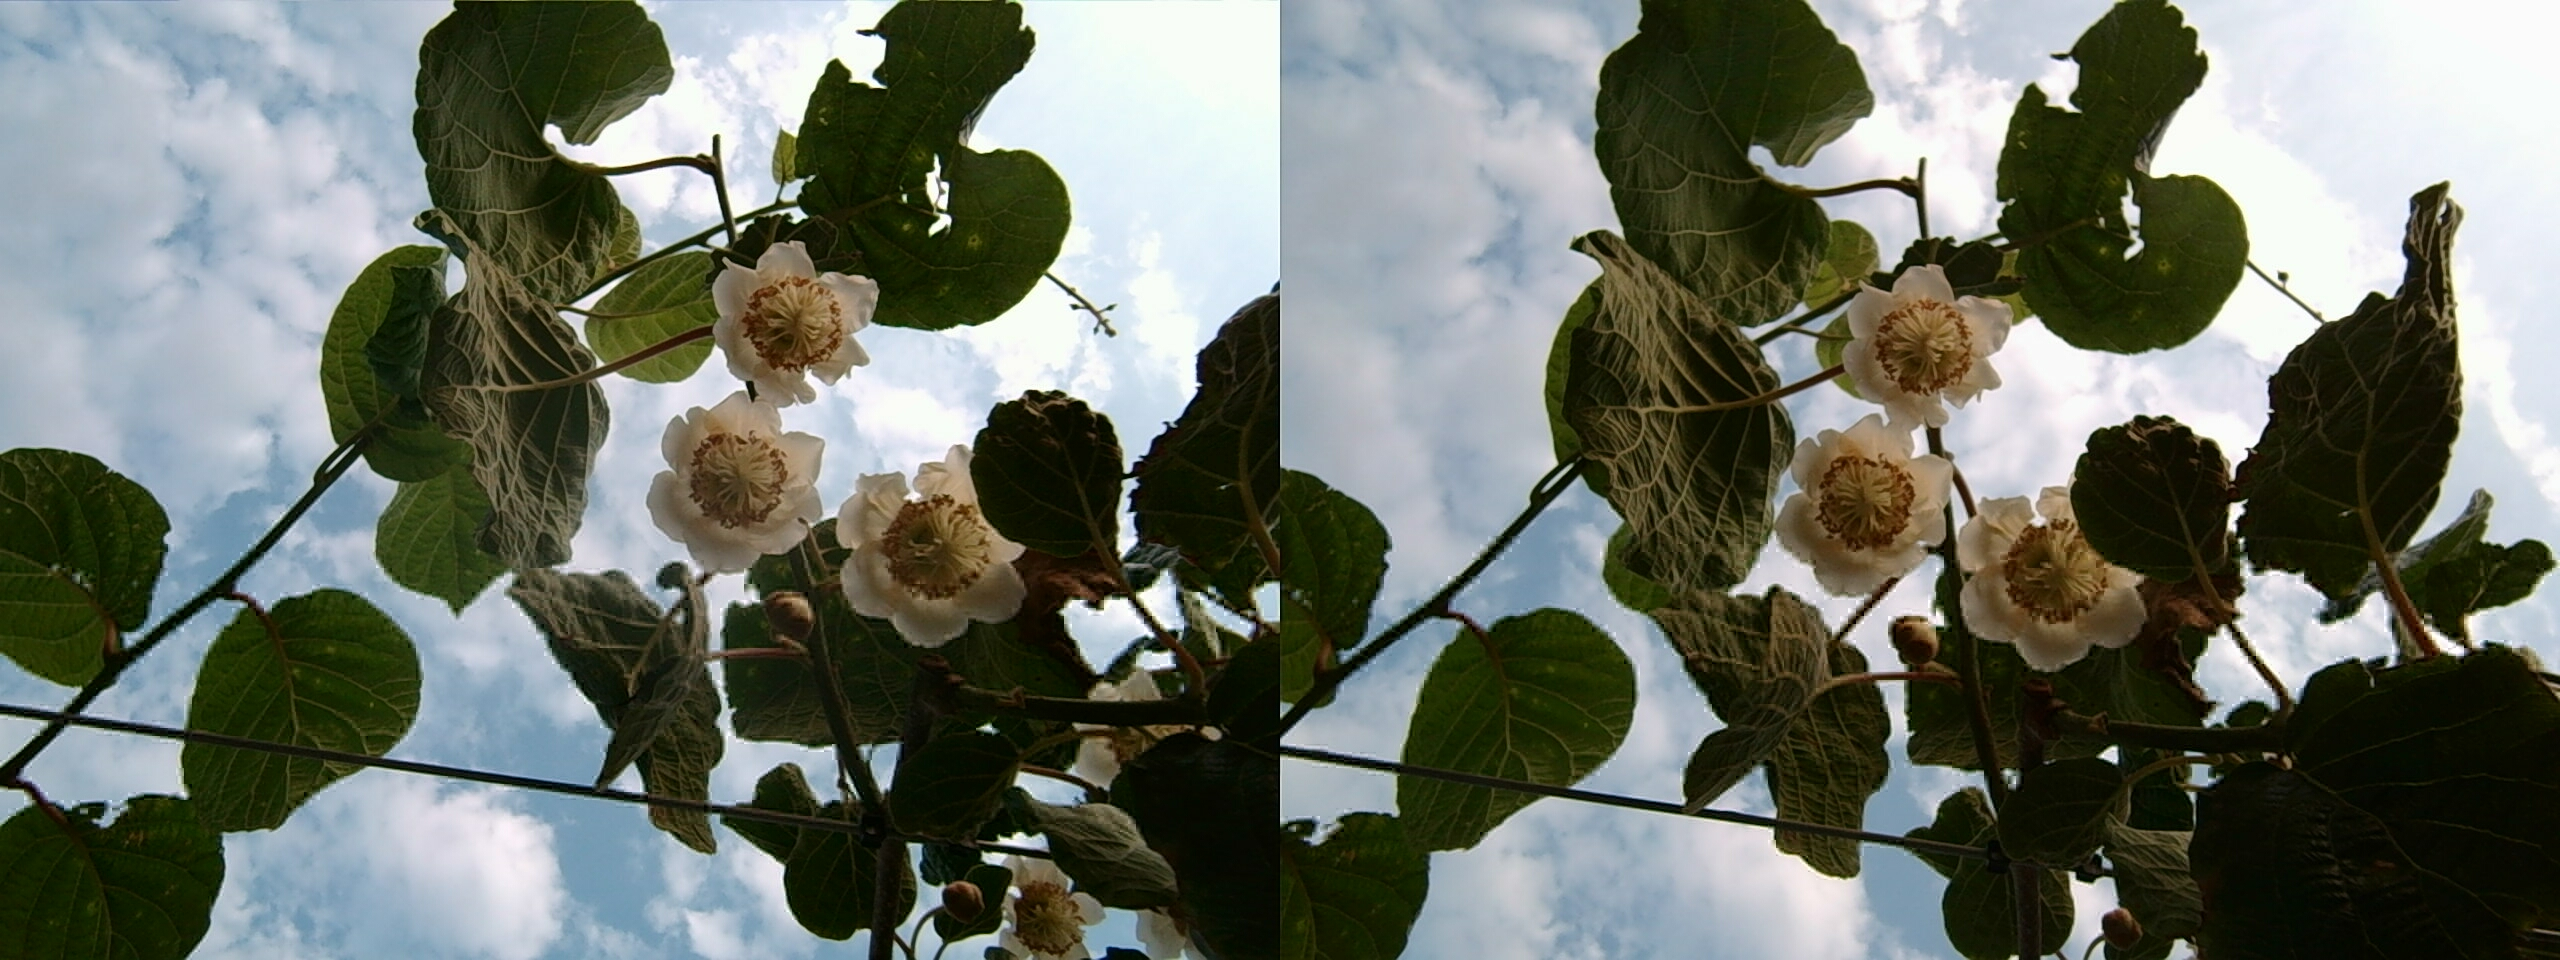flower: (828, 441, 1030, 637), (1752, 403, 1961, 591), (1944, 482, 2153, 664), (642, 392, 828, 567), (1825, 260, 2011, 429), (700, 229, 878, 400)
